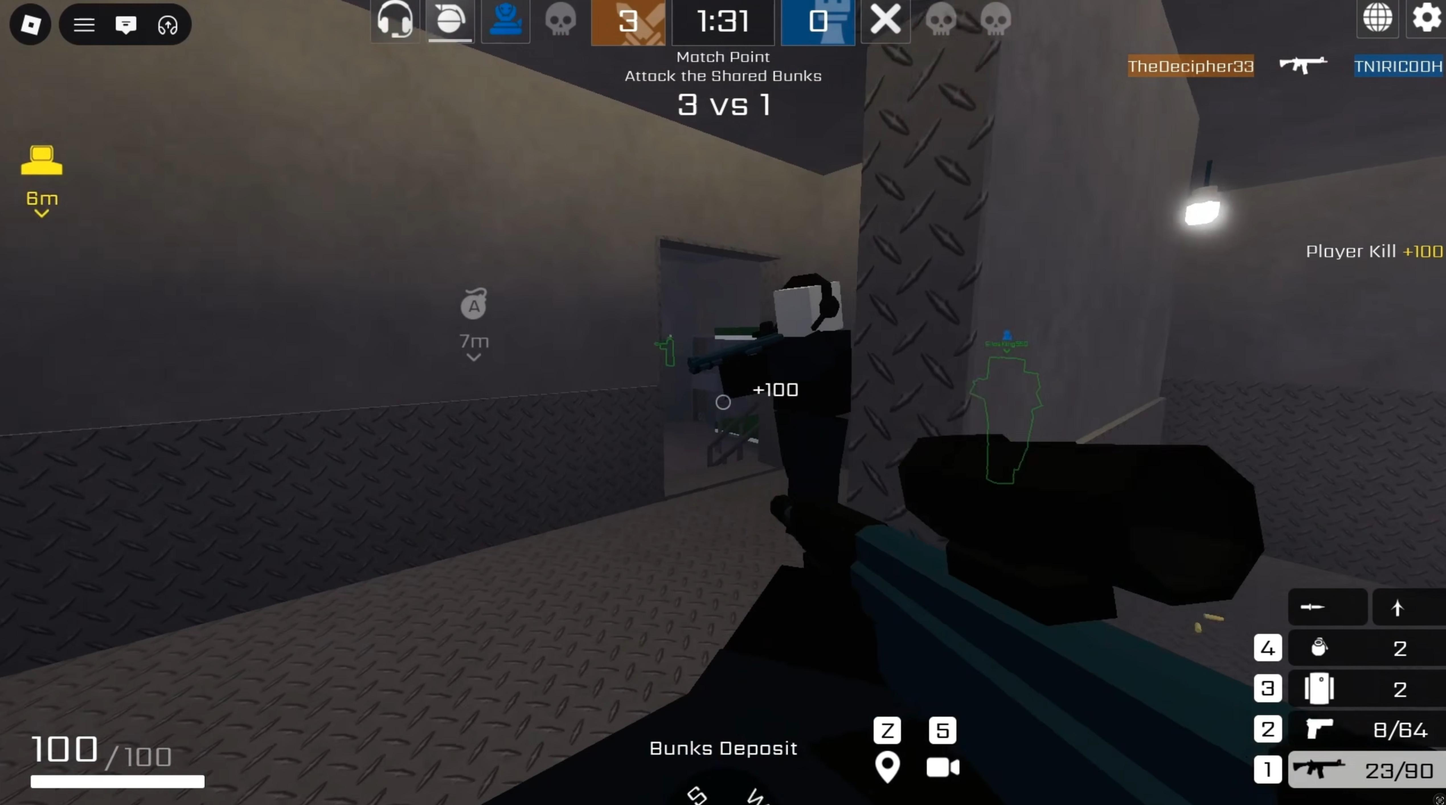enemy: (713, 264, 916, 555)
